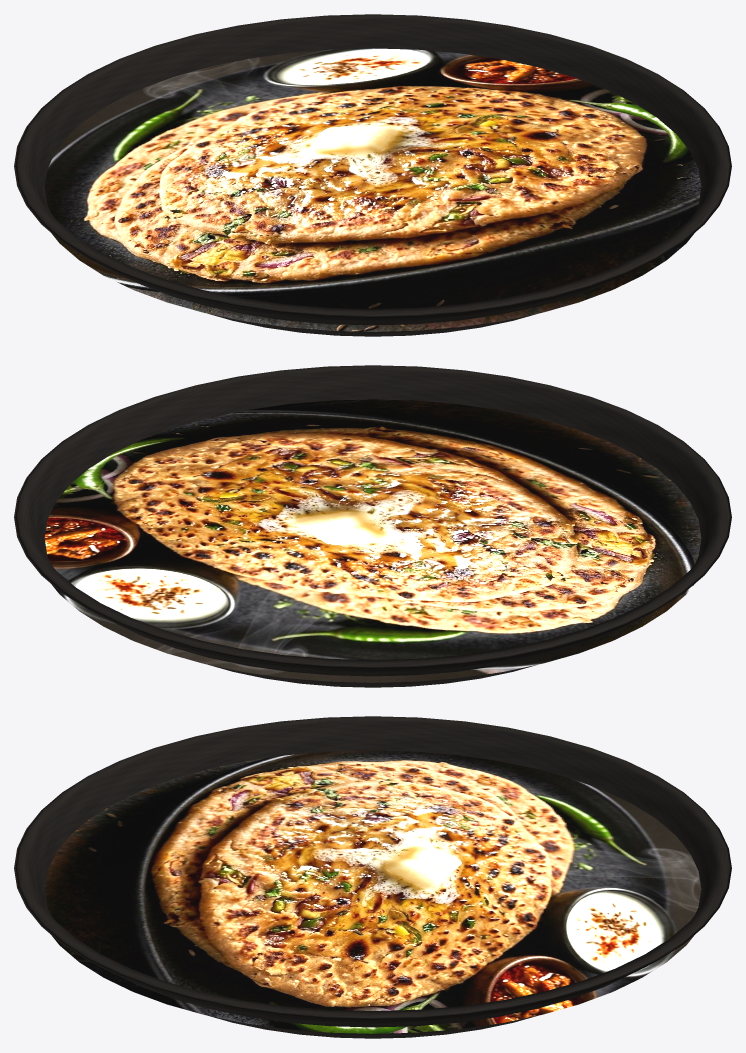
File: onion-aloo-paratha.glb
3 views of the same model, one above another, from view 1: azimuth 30°, elevation 25°; view 2: azimuth 150°, elevation 25°; view 3: azimuth 270°, elevation 25° (orthographic).
Parts seen in each view (by area): view 1: FoodMound, StonewareVessel; view 2: FoodMound, StonewareVessel; view 3: FoodMound, StonewareVessel.
Boxes of the visible parts, bbox=[...] form: FoodMound: bbox=[44, 48, 701, 331]; StonewareVessel: bbox=[14, 14, 731, 336]; FoodMound: bbox=[44, 399, 701, 682]; StonewareVessel: bbox=[14, 365, 731, 687]; FoodMound: bbox=[44, 750, 701, 1033]; StonewareVessel: bbox=[14, 716, 731, 1038].
Bounding box in the file's own units: 0.24 × 0.0225 × 0.24.
Materials: 2 (2 with a texture image).
